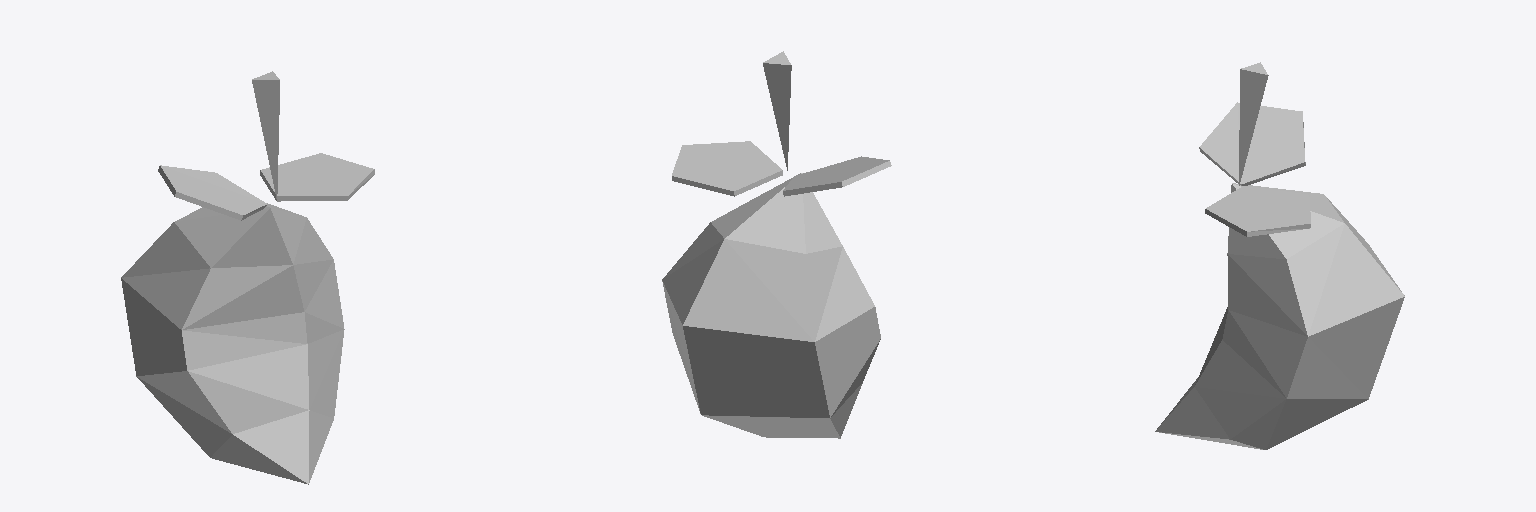
Rendered from fruit4.obj.
The picture shows the model from 3 angles: view 1: azimuth 30°, elevation 25°; view 2: azimuth 150°, elevation 25°; view 3: azimuth 270°, elevation 25°; orthographic projection.
Visible parts, largest first — view 1: polySurface3; view 2: polySurface3; view 3: polySurface3.
Part boxes in pixels (x1,y1,x2,y2): polySurface3: (121, 71, 374, 484); polySurface3: (662, 51, 891, 438); polySurface3: (1155, 62, 1404, 449).
Bounding box in the file's own units: 39.21 × 69.1 × 41.44.